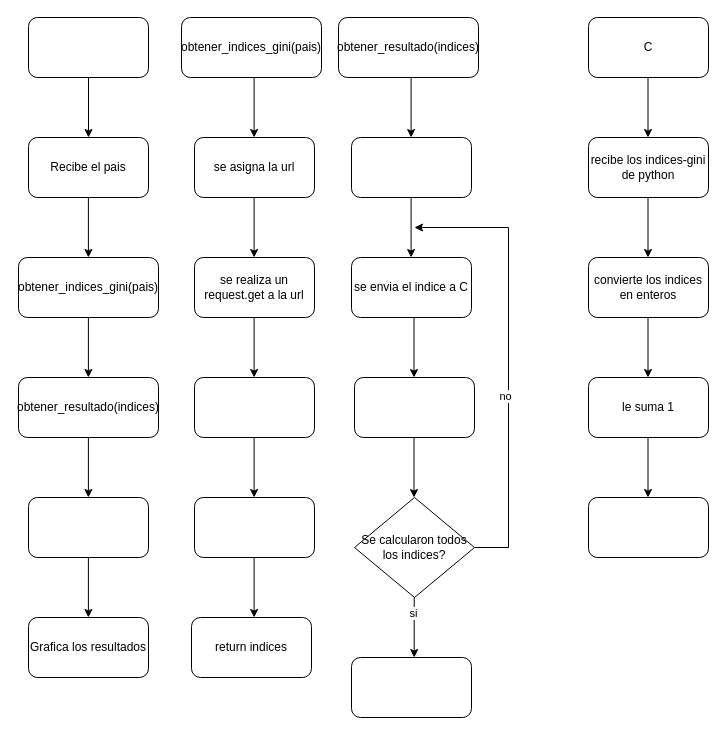
Image size: 726x735. Some labels were removed from this diagram. Here are the shapes that lost their labels. From the top down, the box of each, then its label:
(28, 16, 148, 78): Python
(350, 136, 472, 198): se crea un arrelo donde se almacenan los resultados
(194, 376, 314, 438): se le da formato json
(354, 376, 474, 438): Se almacena el resultado en el arreglo
(28, 496, 148, 558): recibe los nuevos indices de C
(194, 496, 314, 558): se imprimen los valores obtenidos
(588, 496, 708, 558): devuelve los indices a python
(350, 656, 472, 718): return resultados
